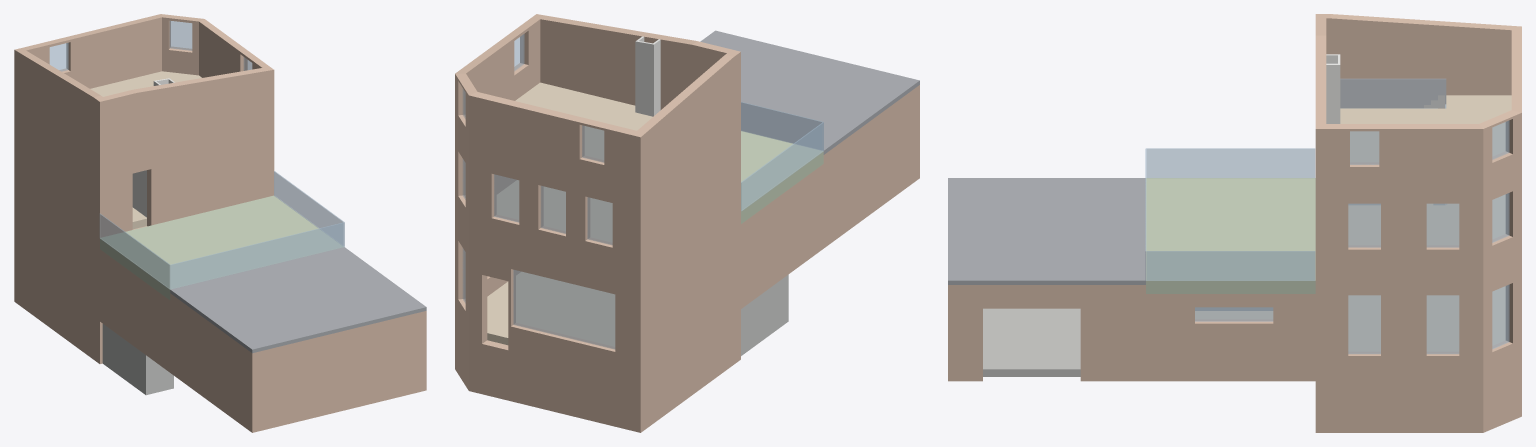
Rendered from maison.gltf.
The picture shows the model from 3 angles, left to right: view 1: azimuth 30°, elevation 25°; view 2: azimuth 150°, elevation 25°; view 3: azimuth 270°, elevation 25°; orthographic projection. The views are drawn at different scales.
Visible parts, largest first — view 1: 1-toiture-garage, 0I, 1-terrasse-projet, 2C, 1C, 1-terrasse-projet-garde-corps, 0D, 0H, 2D, 1D, 2A, 0E (+9 smaller); view 2: 1-toiture-garage, 2A, 1A, 2C, 0A, 0D, 0H, SA, 2D, 1D, 0E, 0-salon (+18 smaller); view 3: 1-toiture-garage, 1-terrasse-projet, 2D, 0F, 0B, 2B, 0J, 1B, 1-terrasse-projet-garde-corps, SB, 0-garage, 2-chambres-sdb-a-decouper (+20 smaller).
Boxes of the visible parts, bbox=[...] form: 1-toiture-garage: bbox=[170, 247, 426, 353]; 0I: bbox=[252, 311, 426, 432]; 1-terrasse-projet: bbox=[100, 195, 343, 300]; 2C: bbox=[100, 68, 274, 172]; 1C: bbox=[100, 130, 274, 237]; 1-terrasse-projet-garde-corps: bbox=[99, 171, 344, 289]; 0D: bbox=[14, 179, 99, 320]; 0H: bbox=[170, 293, 252, 432]; 2D: bbox=[14, 49, 102, 172]; 1D: bbox=[14, 110, 99, 241]; 2A: bbox=[15, 14, 161, 88]; 0E: bbox=[100, 249, 170, 372]; 1-toiture-garage: bbox=[700, 30, 919, 154]; 2A: bbox=[469, 92, 640, 208]; 1A: bbox=[469, 166, 640, 288]; 2C: bbox=[537, 14, 739, 109]; 0A: bbox=[469, 247, 640, 382]; 0D: bbox=[640, 216, 740, 382]; 0H: bbox=[823, 85, 919, 248]; SA: bbox=[469, 340, 640, 432]; 2D: bbox=[637, 51, 740, 208]; 1D: bbox=[640, 135, 740, 288]; 0E: bbox=[741, 164, 823, 308]; 0-salon: bbox=[487, 272, 614, 346]; 1-toiture-garage: bbox=[948, 178, 1145, 284]; 1-terrasse-projet: bbox=[1146, 178, 1315, 293]; 2D: bbox=[1316, 14, 1521, 103]; 0F: bbox=[1146, 294, 1315, 381]; 0B: bbox=[1315, 285, 1483, 381]; 2B: bbox=[1315, 124, 1483, 202]; 0J: bbox=[948, 285, 1145, 381]; 1B: bbox=[1315, 202, 1483, 284]; 1-terrasse-projet-garde-corps: bbox=[1145, 148, 1315, 280]; SB: bbox=[1315, 381, 1483, 432]; 0-garage: bbox=[983, 308, 1080, 376]; 2-chambres-sdb-a-decouper: bbox=[1340, 95, 1511, 161].
Size of the model in its own units: 7.48 by 10.8 by 17.59.
